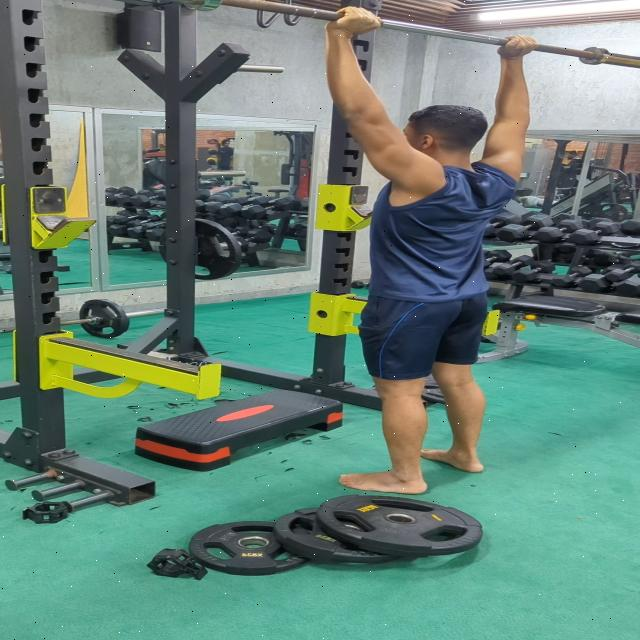Normal_OverheadPress: (296, 0, 540, 497)
